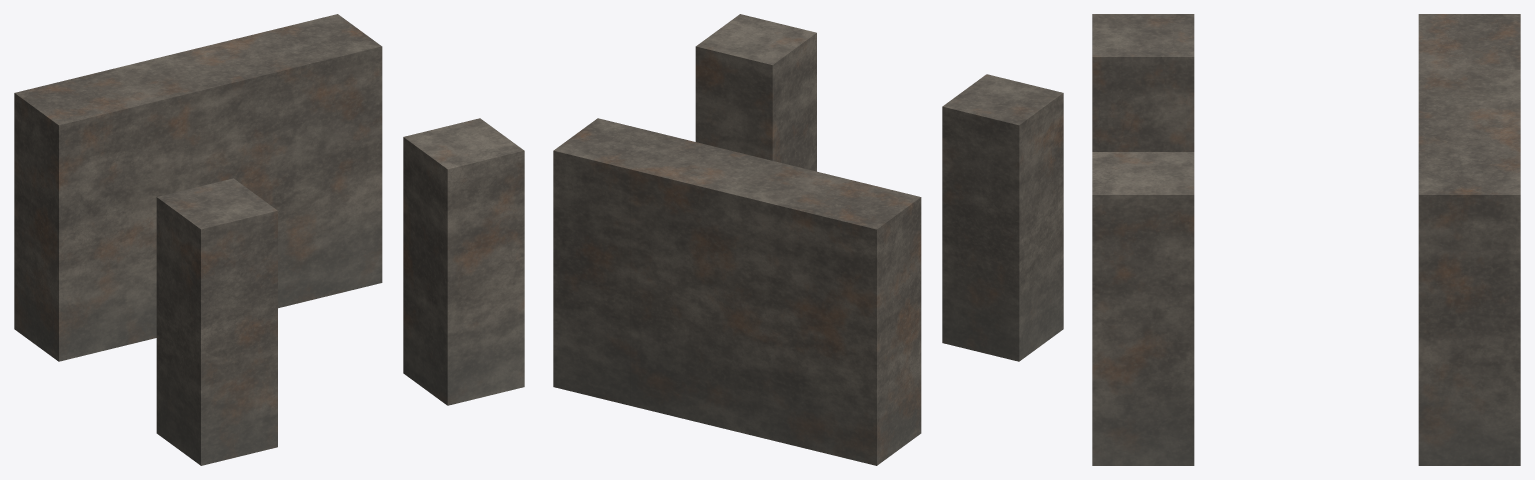
Rendered from dungeon_cave_wall_rise.glb.
The picture shows the model from 3 angles, left to right: view 1: azimuth 30°, elevation 25°; view 2: azimuth 150°, elevation 25°; view 3: azimuth 270°, elevation 25°; orthographic projection. The views are drawn at different scales.
Parts seen in each view (by area): view 1: dungeon_cave_wall_rise; view 2: dungeon_cave_wall_rise; view 3: dungeon_cave_wall_rise.
Boxes of the visible parts, bbox=[...] form: dungeon_cave_wall_rise: bbox=[14, 14, 524, 465]; dungeon_cave_wall_rise: bbox=[553, 14, 1063, 465]; dungeon_cave_wall_rise: bbox=[1092, 14, 1520, 465].
Bounding box in the file's own units: 5 × 3.5 × 5.
1 material, 1 textured.
